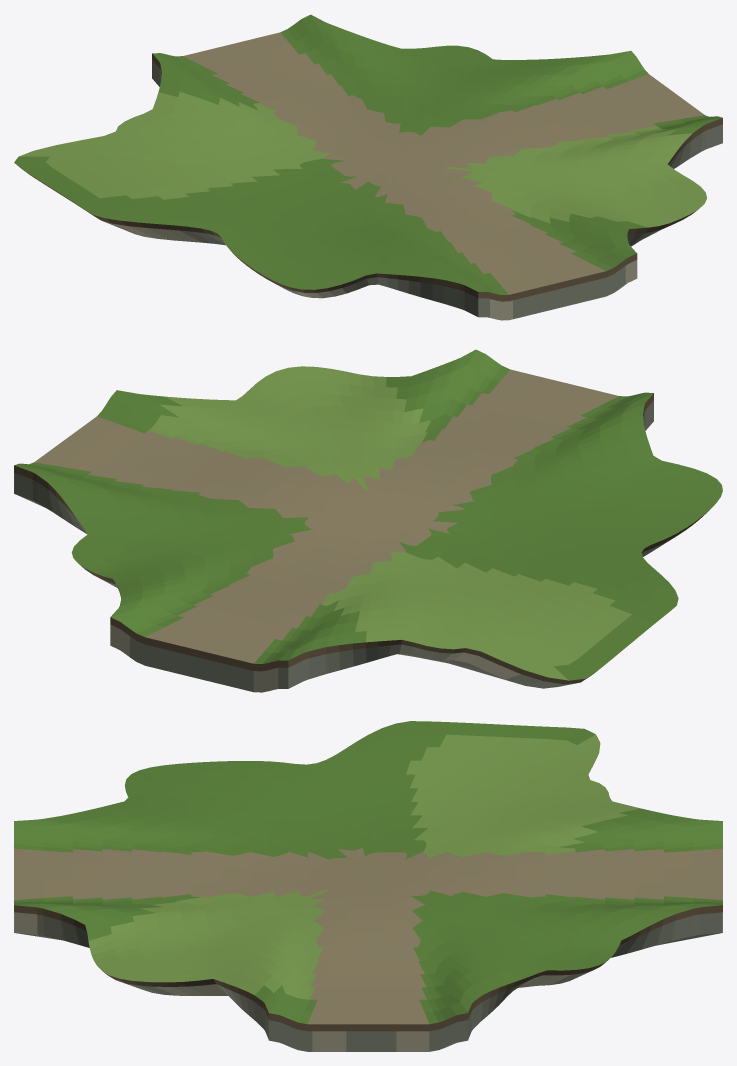
The model's file is deep_clearing_structure.fbx.
The picture shows the model from 3 angles, top to bottom: view 1: azimuth 30°, elevation 25°; view 2: azimuth 150°, elevation 25°; view 3: azimuth 270°, elevation 25°; orthographic projection. The views are drawn at different scales.
Visible parts, largest first — view 1: chunk_deep_clearing; view 2: chunk_deep_clearing; view 3: chunk_deep_clearing.
Boxes of the visible parts, <box> form: chunk_deep_clearing: <box>14,14,722,320</box>; chunk_deep_clearing: <box>14,349,722,692</box>; chunk_deep_clearing: <box>14,721,722,1051</box>.
Size of the model in its own units: 256 by 39.5 by 256.
